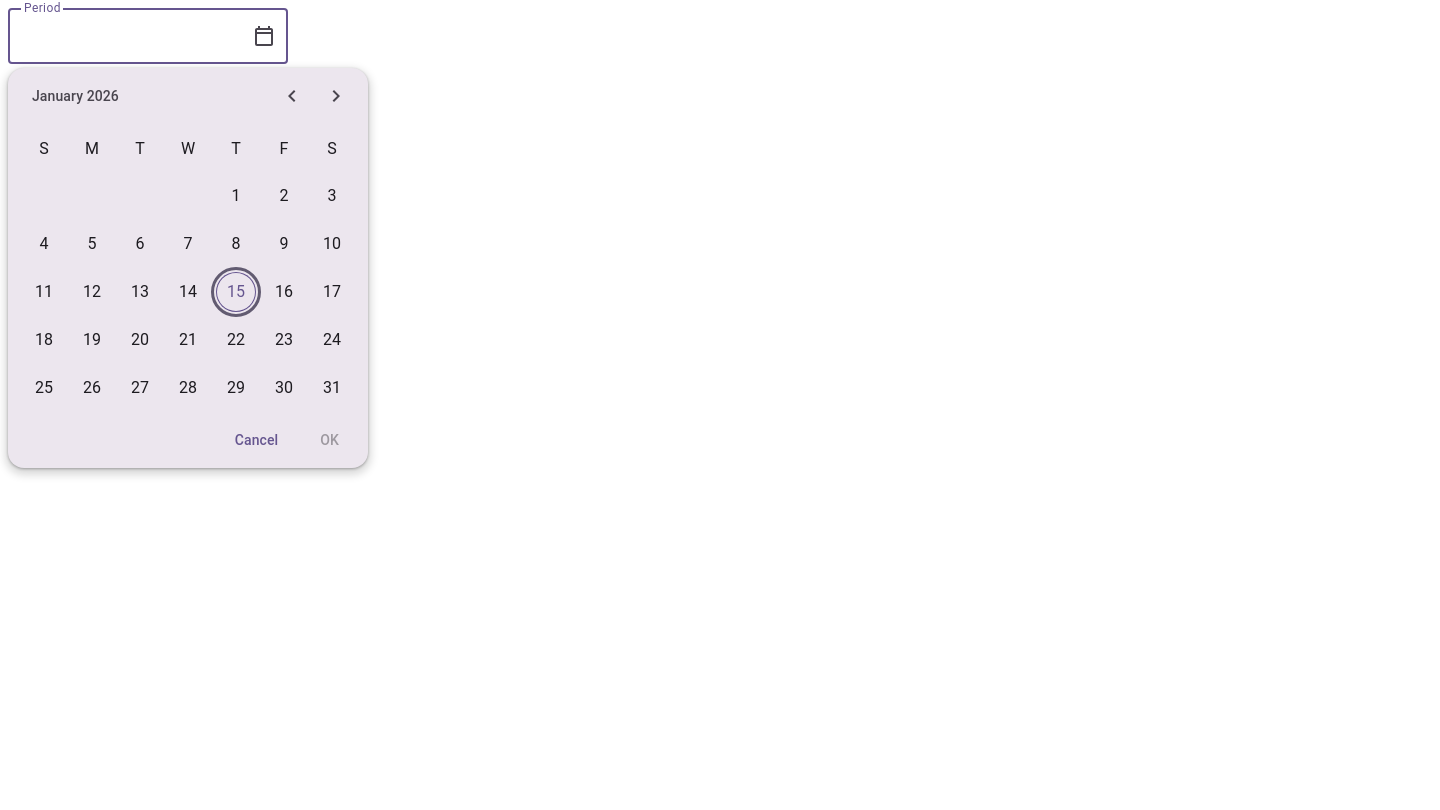
Test: DateRangePicker › restarts the range when the end comes before the start
Earlier steps of the test are not shown.
Click the cell named "January 10, 2026" at (332, 244), box x1=308 y1=220 x2=356 y2=268
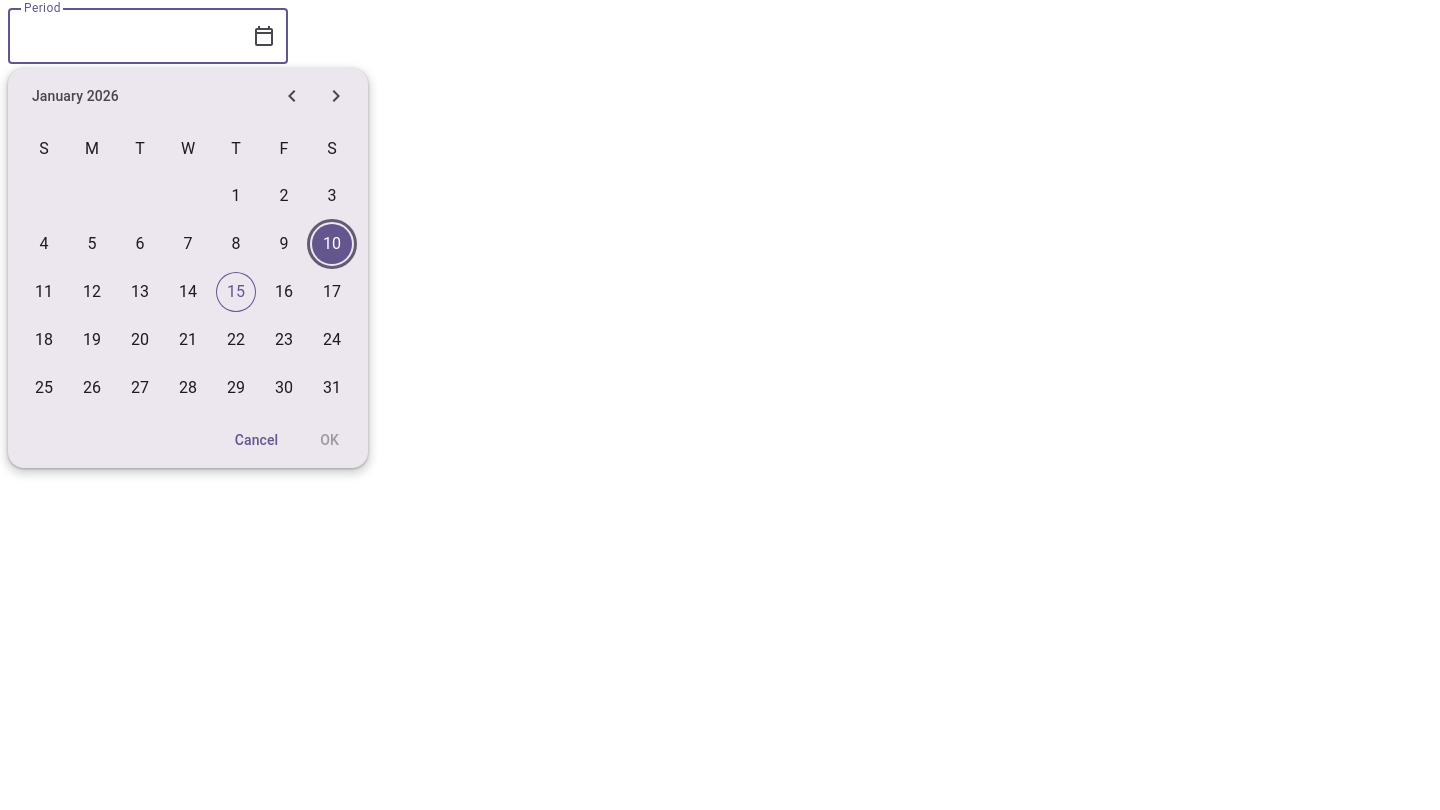
Click the cell named "January 4, 2026" at (44, 244), box x1=20 y1=220 x2=68 y2=268
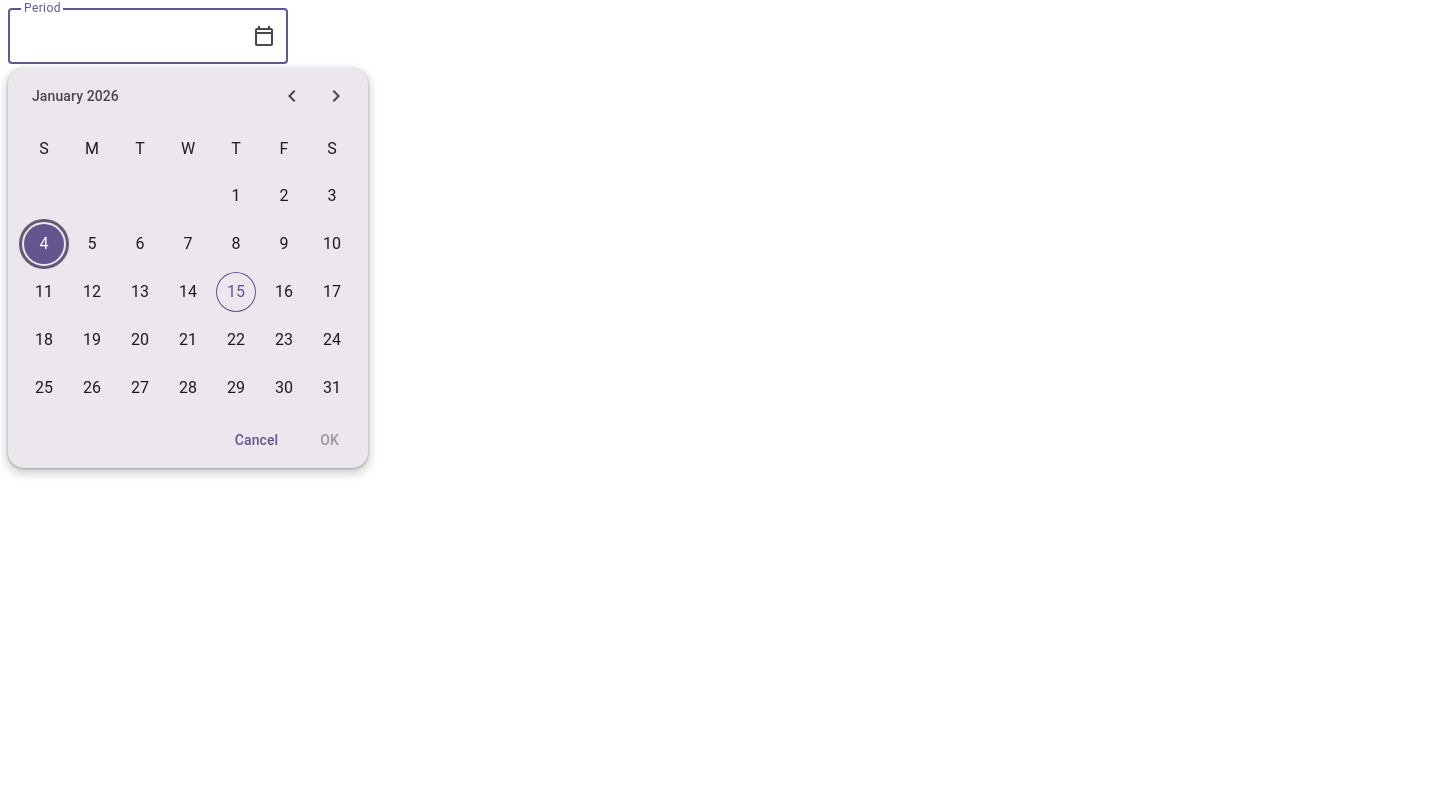
Expected: the button "OK" is disabled, x1=303 y1=420 x2=356 y2=460
Expected: the cell named "January 4, 2026" is selected, x1=20 y1=220 x2=68 y2=268
Expected: the cell named "January 10, 2026" is not selected, x1=308 y1=220 x2=356 y2=268
